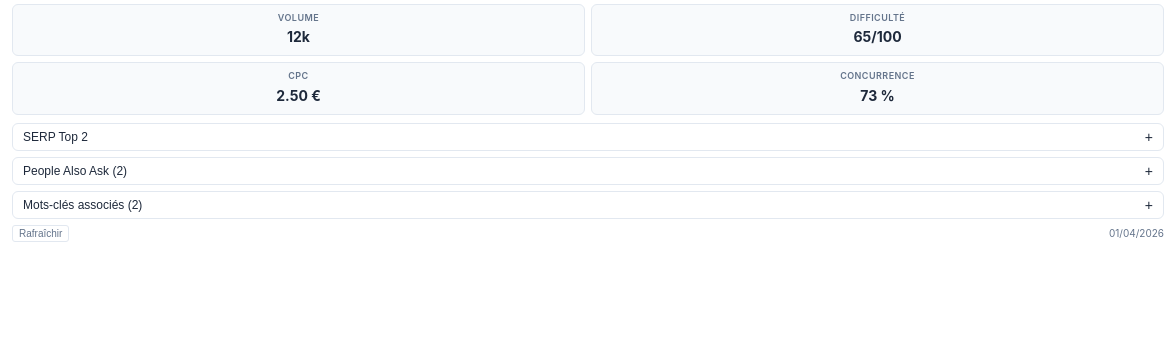
it: SerpDataTab › only expands one section at a time
The image size is (1176, 353).
Note: Open SERP
Step 1. Click the button with class "collapsible-header" showing "SERP Top 2 +" → (55, 137), box [13,124,1163,150]
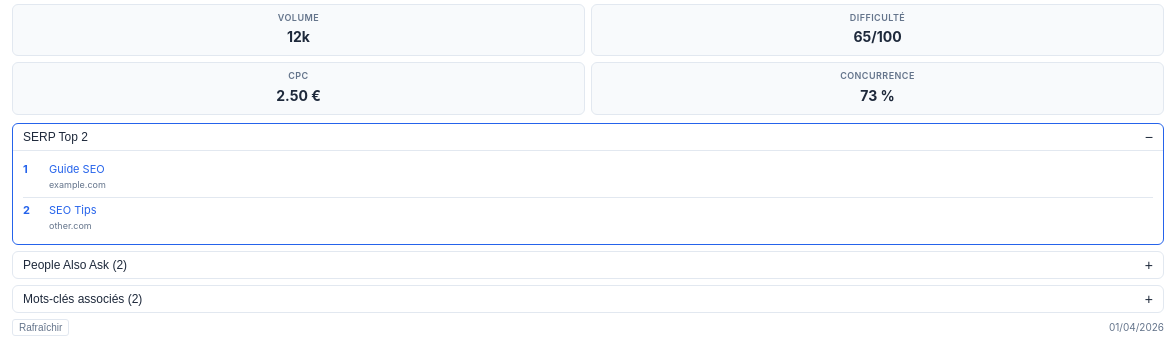
Check: the number of elements with class "open" is 1, box [12,123,1164,245]
Note: Open PAA (should close SERP)
Step 2. Click the button with class "collapsible-header" showing "People Also Ask (2) +" → (75, 265), box [13,252,1163,278]
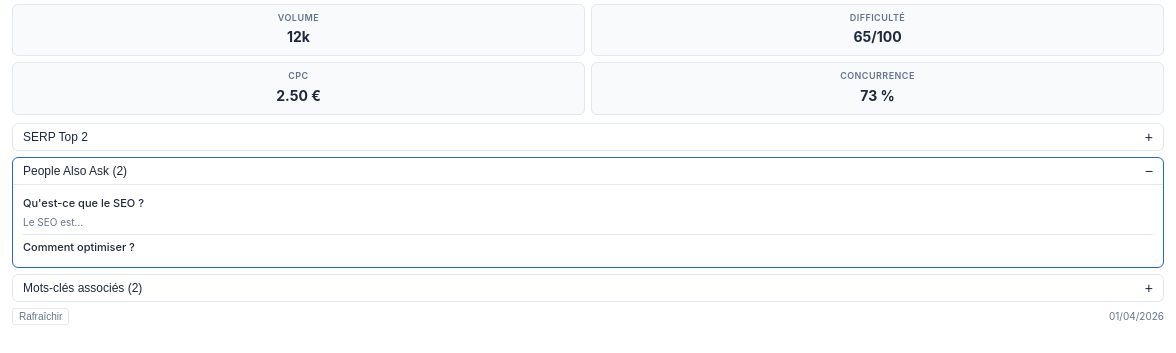
Check: the number of elements with class "open" is 1, box [12,157,1164,268]
Check: the text "Qu'est-ce que le SEO ?" is shown, box [23,196,144,210]
